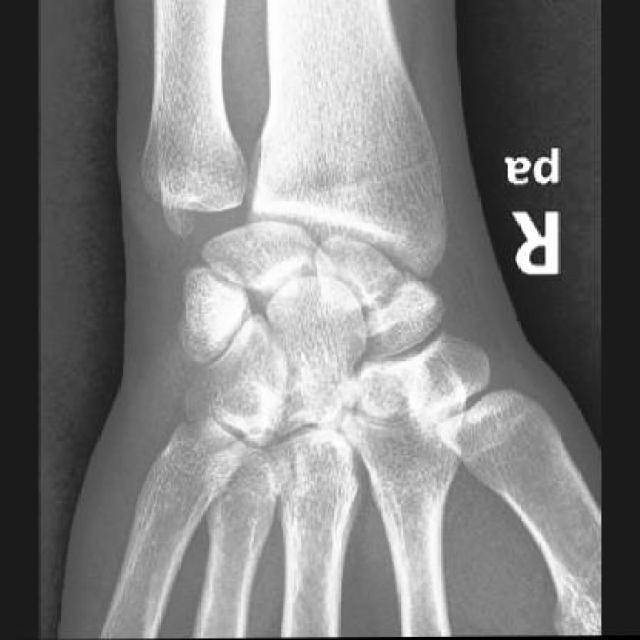Fracture: (348, 274, 430, 327)
